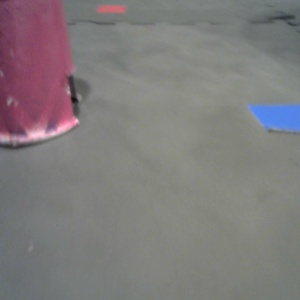middle: (17, 1, 117, 98)
